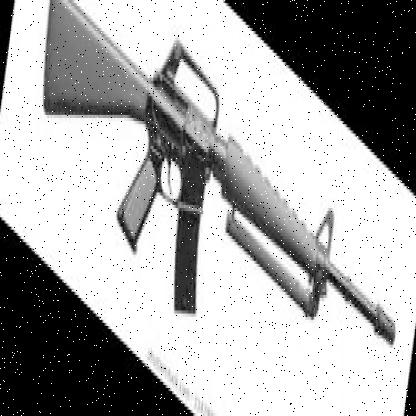rifle: (28, 0, 400, 416)
